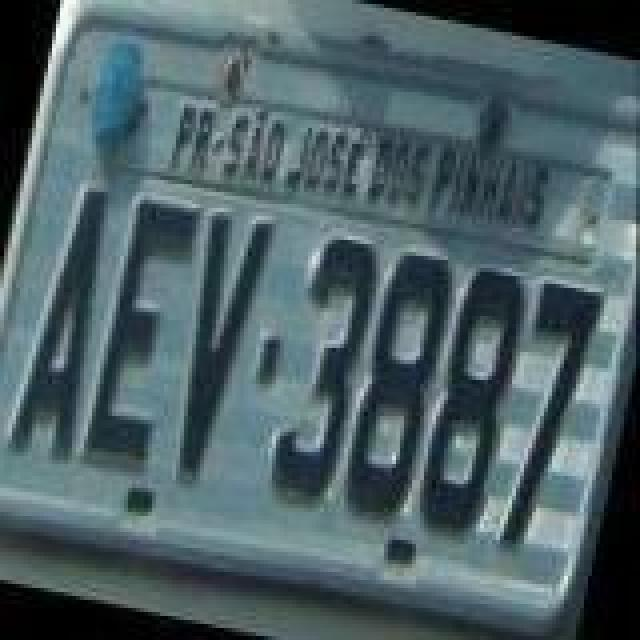3: (264, 230, 388, 506)
7: (482, 274, 602, 558)
8: (336, 244, 460, 524), (408, 260, 532, 540)
A: (0, 184, 124, 472)
E: (82, 190, 202, 466)
V: (154, 202, 274, 486)
